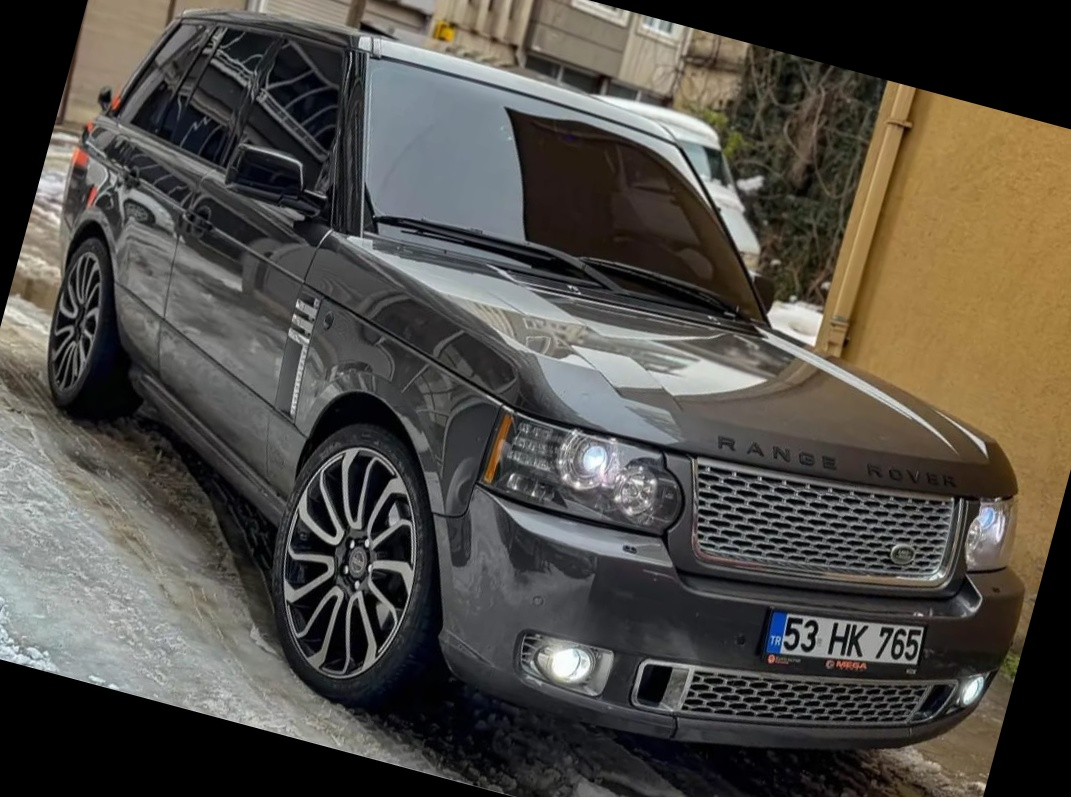plaka: (776, 606, 931, 671)
